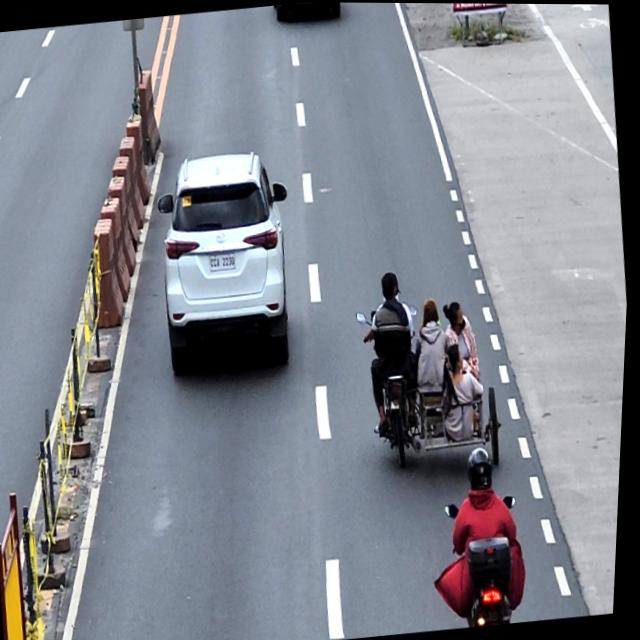Car: (148, 145, 308, 378)
License-Plate: (208, 250, 239, 271)
Motorcycle: (444, 492, 533, 627)
Tricycle: (353, 294, 513, 478)
